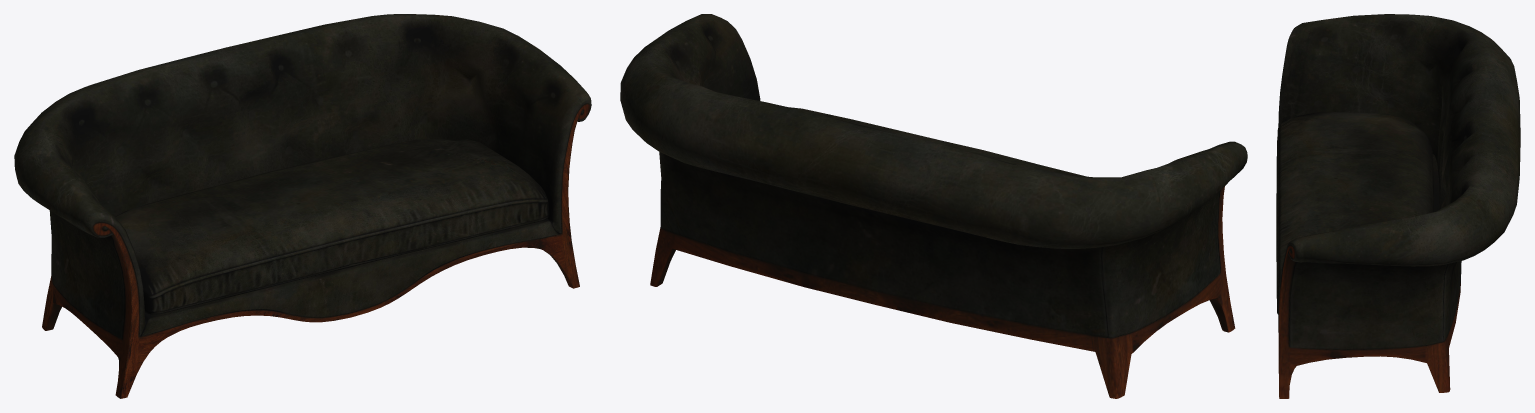
File: sofa.obj
3 renders of one model, left to right at view 1: azimuth 30°, elevation 25°; view 2: azimuth 150°, elevation 25°; view 3: azimuth 270°, elevation 25°, orthographic. The views are drawn at different scales.
Parts seen in each view (by area): view 1: sofa_02_Base, sofa_02_Seat; view 2: sofa_02_Base, sofa_02_Seat; view 3: sofa_02_Base, sofa_02_Seat.
Part boxes in pixels (x1,y1,x2,y2): sofa_02_Base: (14,14,591,398); sofa_02_Seat: (115,139,549,314); sofa_02_Base: (620,14,1247,398); sofa_02_Seat: (789,107,1086,176); sofa_02_Base: (1278,14,1520,398); sofa_02_Seat: (1276,112,1433,314).
Bounding box in the file's own units: 1.81 × 0.7095 × 0.8178.
